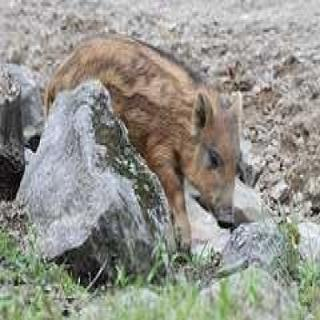Pig: (61, 31, 268, 236)
